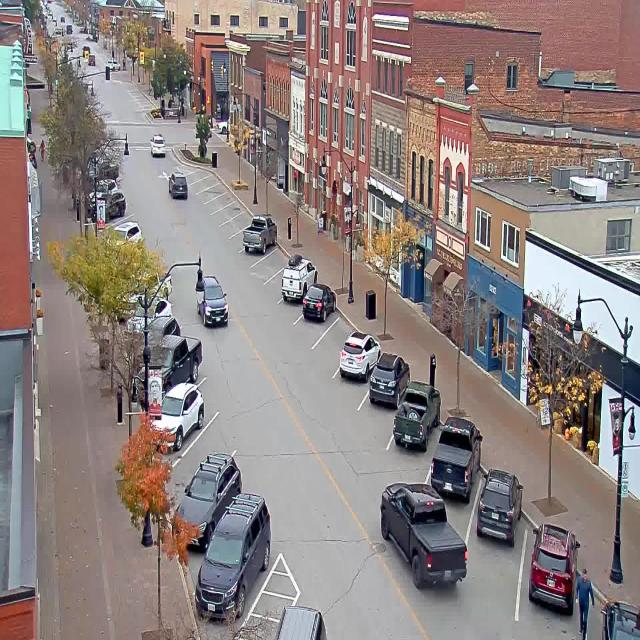available: (178, 398, 238, 458), (316, 308, 358, 356), (257, 238, 282, 275), (264, 266, 284, 302), (214, 186, 232, 212), (222, 198, 240, 221), (207, 178, 223, 202), (234, 210, 251, 232), (199, 173, 213, 195), (191, 164, 204, 182)
occupied: (194, 491, 271, 622), (173, 450, 242, 550), (528, 521, 580, 614), (134, 334, 203, 402), (429, 416, 483, 502), (148, 381, 204, 452), (475, 467, 522, 547), (392, 380, 441, 450), (369, 351, 410, 408), (338, 329, 381, 382), (280, 253, 318, 302), (600, 600, 640, 639), (242, 213, 277, 254), (302, 282, 336, 322)
